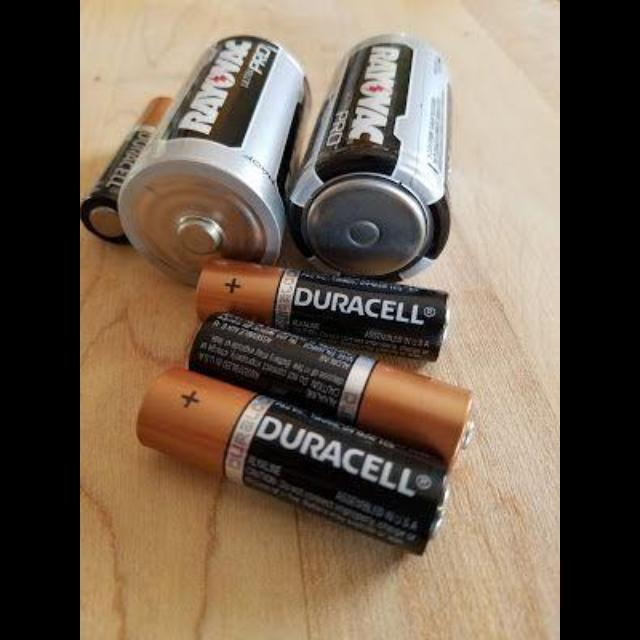bateria: (138, 367, 454, 557), (122, 34, 310, 292), (189, 312, 477, 474), (290, 30, 456, 284), (194, 260, 454, 364), (80, 94, 178, 243)
